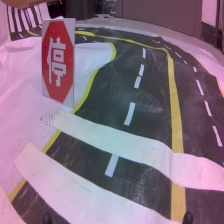stop: (40, 17, 75, 107)
